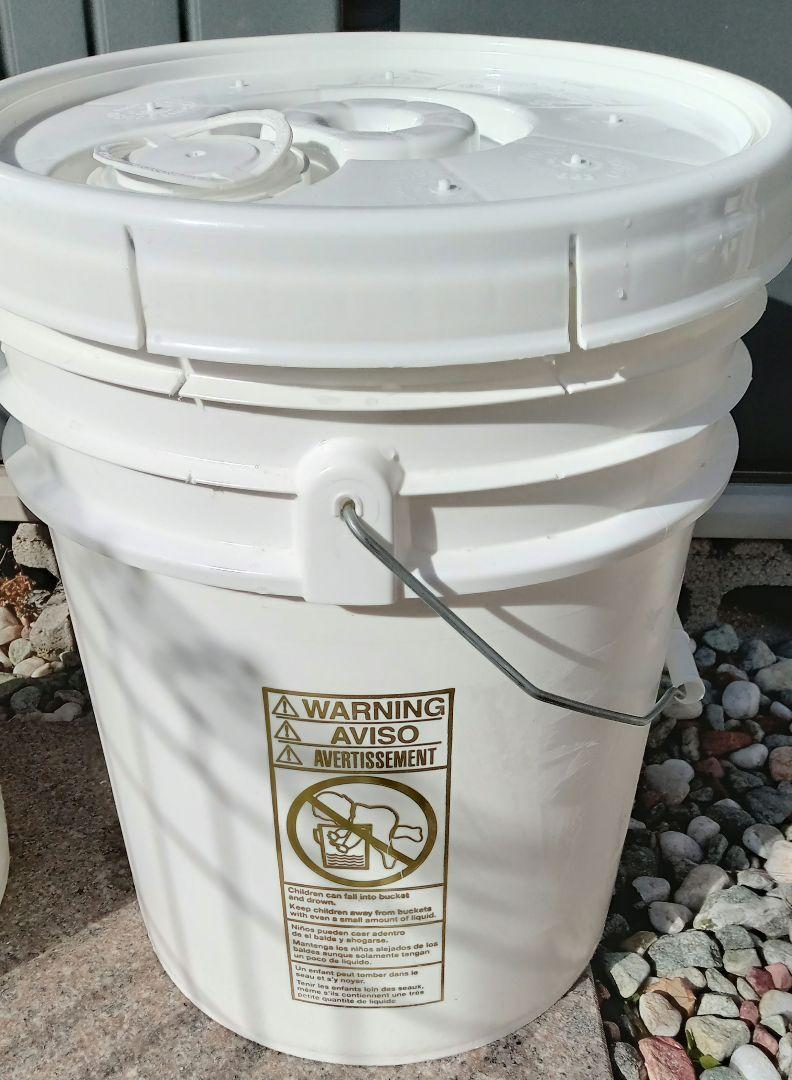plastic: (0, 33, 788, 1079)
